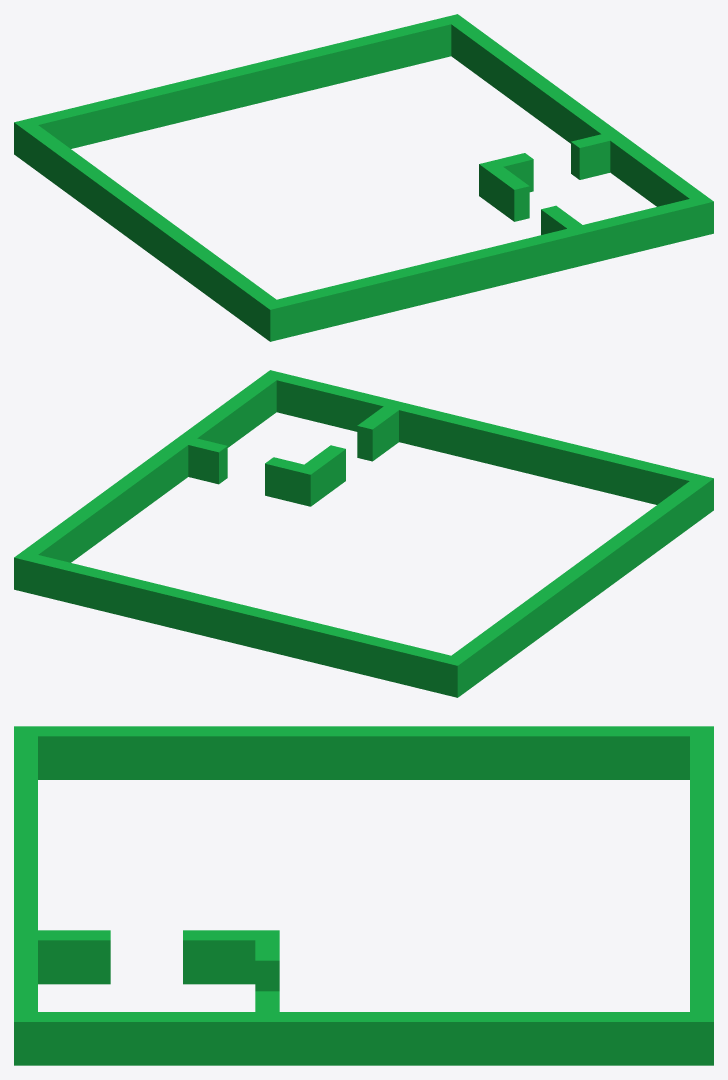
File: walls.fbx
3 views of the same model, one above another, from view 1: azimuth 30°, elevation 25°; view 2: azimuth 150°, elevation 25°; view 3: azimuth 270°, elevation 25° (orthographic). The views are drawn at different scales.
Parts seen in each view (by area): view 1: CubeWall, CubeWall__2_, CubeWall__3_, CubeWall__1_, CubeWall__5_, CubeWall__7_, CubeWall__6_, CubeWall__4_; view 2: CubeWall__2_, CubeWall, CubeWall__3_, CubeWall__1_, CubeWall__6_, CubeWall__4_, CubeWall__7_, CubeWall__5_; view 3: CubeWall__1_, CubeWall__3_, CubeWall, CubeWall__2_, CubeWall__4_, CubeWall__5_, CubeWall__6_, CubeWall__7_.
Boxes of the visible parts, <box> form: CubeWall: <box>277,195,713,337</box>; CubeWall__2_: <box>14,18,451,160</box>; CubeWall__3_: <box>23,125,285,341</box>; CubeWall__1_: <box>443,14,704,206</box>; CubeWall__5_: <box>488,167,529,221</box>; CubeWall__7_: <box>571,134,619,179</box>; CubeWall__6_: <box>479,153,533,202</box>; CubeWall__4_: <box>541,205,581,234</box>; CubeWall__2_: <box>29,555,466,697</box>; CubeWall: <box>261,370,698,504</box>; CubeWall__3_: <box>452,474,713,690</box>; CubeWall__1_: <box>14,376,276,593</box>; CubeWall__6_: <box>265,457,319,506</box>; CubeWall__4_: <box>357,406,398,461</box>; CubeWall__7_: <box>174,436,227,484</box>; CubeWall__5_: <box>304,445,345,499</box>; CubeWall__1_: <box>38,1012,713,1065</box>; CubeWall__3_: <box>14,726,689,779</box>; CubeWall: <box>14,736,37,1065</box>; CubeWall__2_: <box>690,726,713,1011</box>; CubeWall__4_: <box>38,930,110,984</box>; CubeWall__5_: <box>183,930,255,984</box>; CubeWall__6_: <box>255,930,279,991</box>; CubeWall__7_: <box>255,991,279,1065</box>.
Bounding box in the file's own units: 1450 × 100 × 1450.
